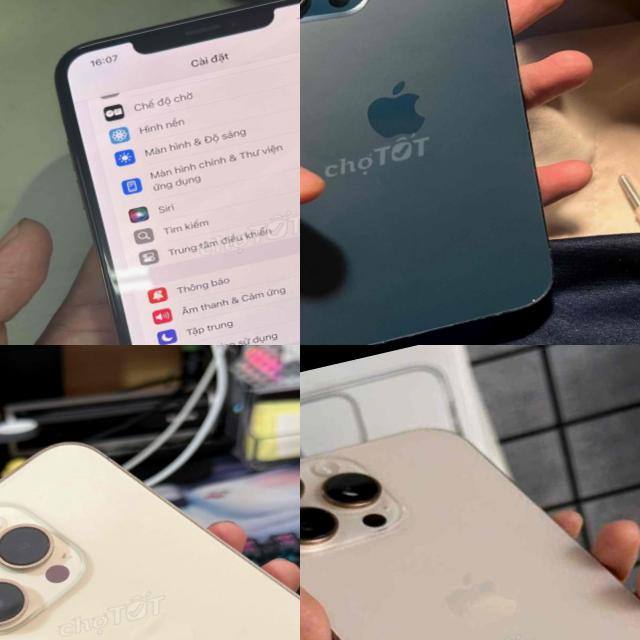scratch: (300, 247, 571, 345)
